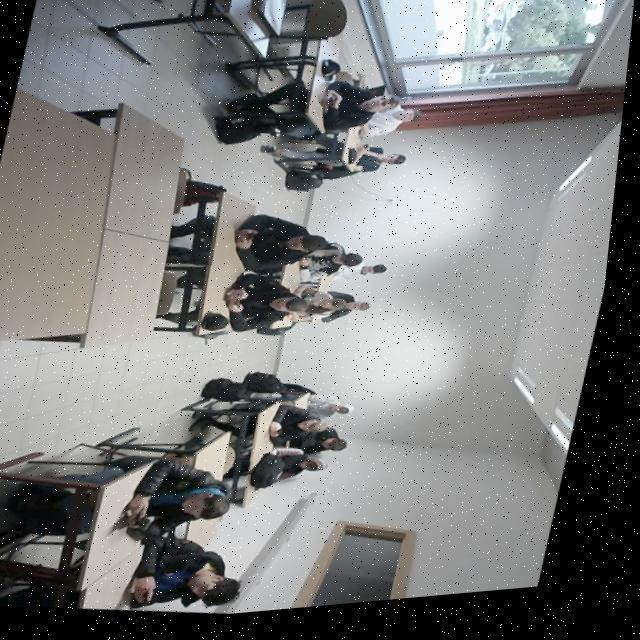phone_use: (125, 522, 238, 605), (126, 457, 228, 528), (235, 214, 327, 272), (224, 270, 306, 332), (269, 393, 347, 452), (299, 242, 361, 273), (346, 143, 404, 170)
